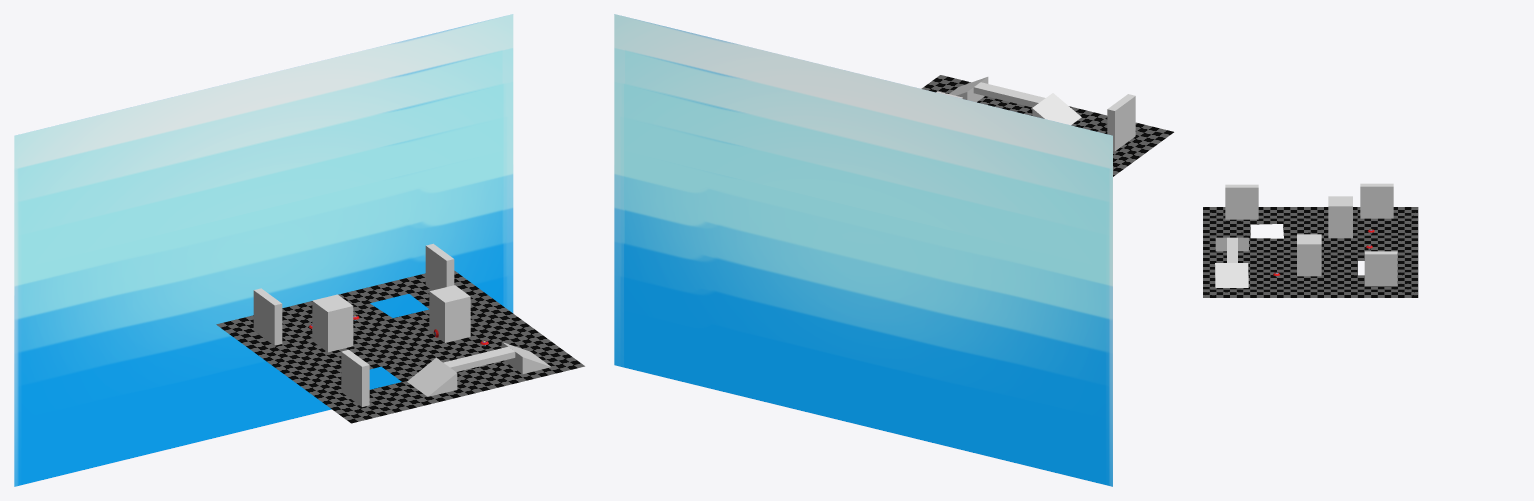
The model's file is bigmaptest.glb.
3 views of the same model, side by side, from view 1: azimuth 30°, elevation 25°; view 2: azimuth 150°, elevation 25°; view 3: azimuth 270°, elevation 25° (orthographic). The views are drawn at different scales.
Parts seen in each view (by area): view 1: Plane, Floor-col, SmallWall11-col, SmallWall9-col, Cube.002-col, SmallWall5-col, SmallWall8-col, SmallWall2-col, SmallWall10-col, SmallWall12-col; view 2: Plane, Floor-col, SmallWall5-col, SmallWall8-col, SmallWall10-col; view 3: Floor-col, Cube.002-col, SmallWall5-col, SmallWall2-col, SmallWall11-col, SmallWall9-col, SmallWall12-col.
Part boxes in pixels (left/top/right/bottom): Plane: left=14, top=14, right=513, bottom=486; Floor-col: left=216, top=270, right=584, bottom=423; SmallWall11-col: left=312, top=294, right=353, bottom=352; SmallWall9-col: left=429, top=285, right=470, bottom=342; Cube.002-col: left=253, top=288, right=282, bottom=345; SmallWall5-col: left=341, top=349, right=369, bottom=406; SmallWall8-col: left=407, top=357, right=457, bottom=396; SmallWall2-col: left=425, top=243, right=454, bottom=290; SmallWall10-col: left=443, top=347, right=515, bottom=371; SmallWall12-col: left=501, top=342, right=550, bottom=374; Plane: left=614, top=14, right=1112, bottom=486; Floor-col: left=921, top=75, right=1173, bottom=176; SmallWall5-col: left=1107, top=94, right=1135, bottom=151; SmallWall8-col: left=1032, top=93, right=1081, bottom=125; SmallWall10-col: left=973, top=82, right=1045, bottom=107; Floor-col: left=1203, top=207, right=1418, bottom=297; Cube.002-col: left=1360, top=183, right=1393, bottom=218; SmallWall5-col: left=1225, top=184, right=1258, bottom=219; SmallWall2-col: left=1364, top=251, right=1397, bottom=286; SmallWall11-col: left=1328, top=196, right=1352, bottom=238; SmallWall9-col: left=1297, top=234, right=1321, bottom=276; SmallWall12-col: left=1215, top=263, right=1248, bottom=287.
Size of what is drawn, in the model's own units: 12.77 by 8.59 by 8.83.
5 materials, 5 textured.
